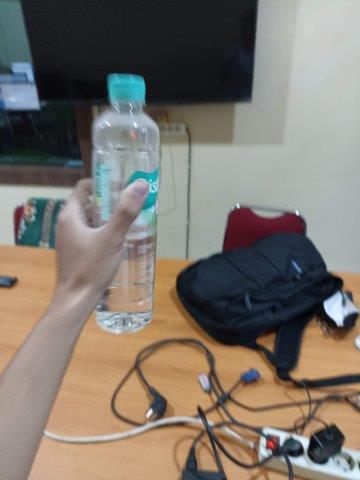botolplastik: (93, 71, 160, 334)
